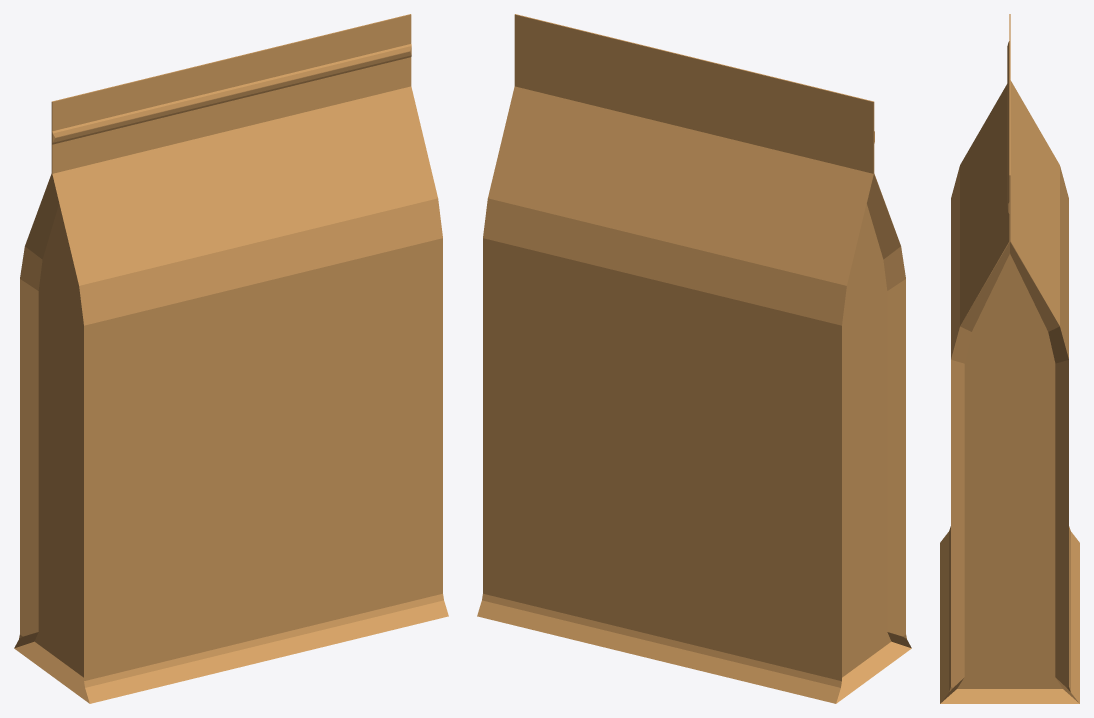
File: flat_bottom_paper.glb
The picture shows the model from 3 angles, left to right: view 1: azimuth 30°, elevation 25°; view 2: azimuth 150°, elevation 25°; view 3: azimuth 270°, elevation 25°; orthographic projection. The views are drawn at different scales.
Visible parts, largest first — view 1: Flat Bottom; view 2: Flat Bottom; view 3: Flat Bottom.
Boxes of the visible parts, bbox=[...] form: Flat Bottom: bbox=[14, 14, 448, 703]; Flat Bottom: bbox=[477, 14, 911, 703]; Flat Bottom: bbox=[940, 14, 1079, 703].
Size of the model in its own units: 0.4334 by 0.6623 by 0.1586.
